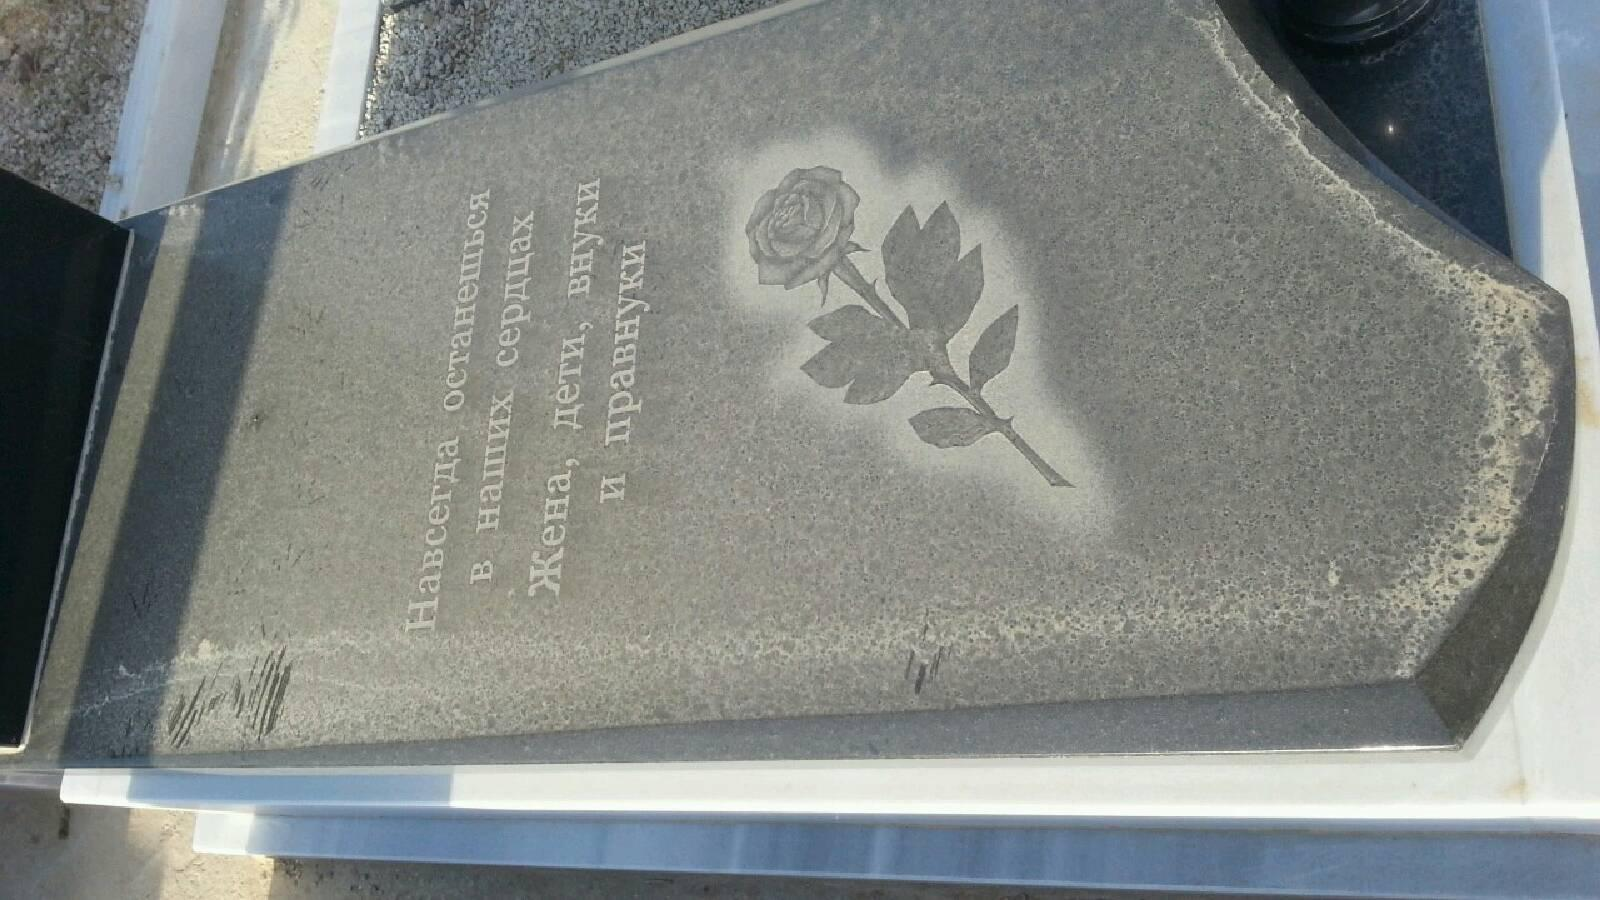vault: (13, 22, 1600, 900)
